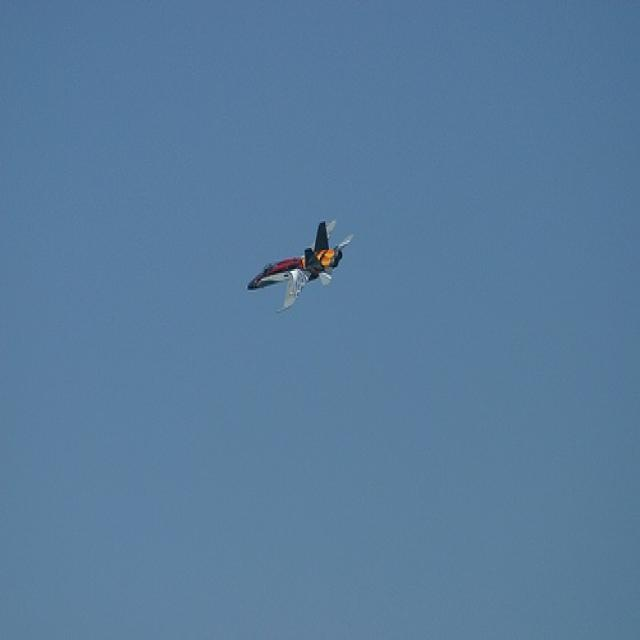aeroplane: (247, 218, 356, 314)
